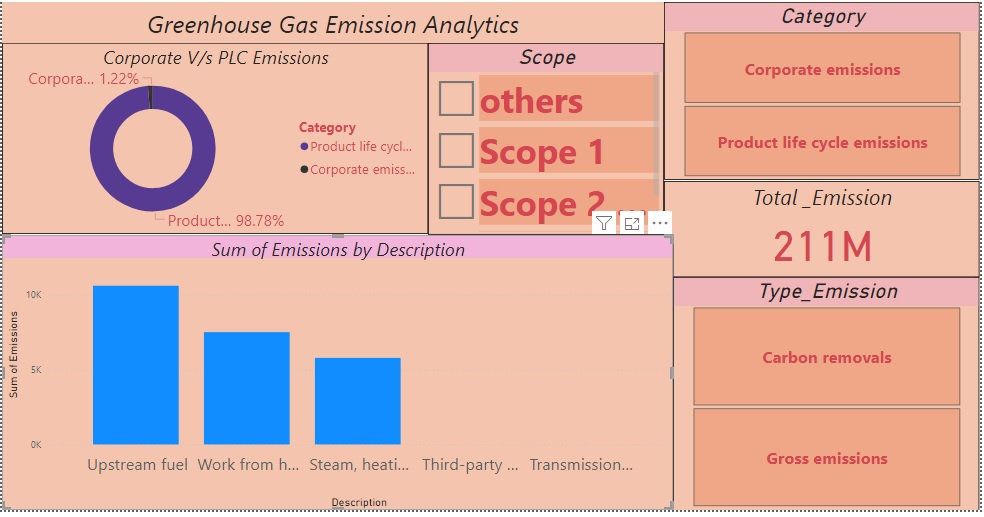

Layout of this report page (visuals, bound fields, positions):
{"tool":"powerbi","page":{"name":"Page 1","canvas":[1280,720],"ordinal":0},"visuals":[{"type":"donutChart","title":"Corporate V/s PLC Emissions","fields":{"Category":["greenhouse_gas_emissions.Category"],"Y":["Sum(greenhouse_gas_emissions.Emissions)"]},"box":[0,109.2,557.7,250.3],"z":0},{"type":"card","title":"Total _Emission","fields":{"Values":["Sum(greenhouse_gas_emissions.Emissions)"]},"box":[866.8,288.9,413.2,126],"z":1000},{"type":"textbox","box":[0,55.4,866.8,53.8],"z":2000},{"type":"slicer","title":"Category","fields":{"Values":["greenhouse_gas_emissions.Category"]},"box":[866.8,55.4,413.2,233.5],"z":3000},{"type":"slicer","title":"Scope","fields":{"Values":["greenhouse_gas_emissions.Scope"]},"box":[557.7,108.7,308.9,251.3],"z":3001},{"type":"columnChart","fields":{"Category":["greenhouse_gas_emissions.Description"],"Y":["Sum(greenhouse_gas_emissions.Emissions)"]},"box":[0,359.5,878.5,361.2],"z":3002},{"type":"slicer","title":"Type_Emission","fields":{"Values":["greenhouse_gas_emissions.Type"]},"box":[878.5,414.9,401.5,305.7],"z":3003}]}

Visuals, with their boxes in screenshot pixels (x1, y1, x2, y2):
"Corporate V/s PLC Emissions" donutChart: [0,47,425,238]
"Total _Emission" card: [661,184,975,280]
textbox: [0,6,661,47]
"Category" slicer: [661,6,975,184]
"Scope" slicer: [425,47,660,238]
columnChart - greenhouse_gas_emissions.Description x Sum(greenhouse_gas_emissions.Emissions): [0,238,669,513]
"Type_Emission" slicer: [669,280,975,513]
